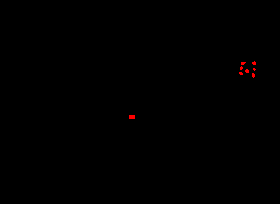Target: (129, 115, 135, 119), (252, 61, 256, 65), (245, 69, 249, 73), (241, 62, 246, 65), (252, 73, 255, 78), (240, 66, 243, 70), (239, 72, 243, 75), (253, 68, 256, 71)
